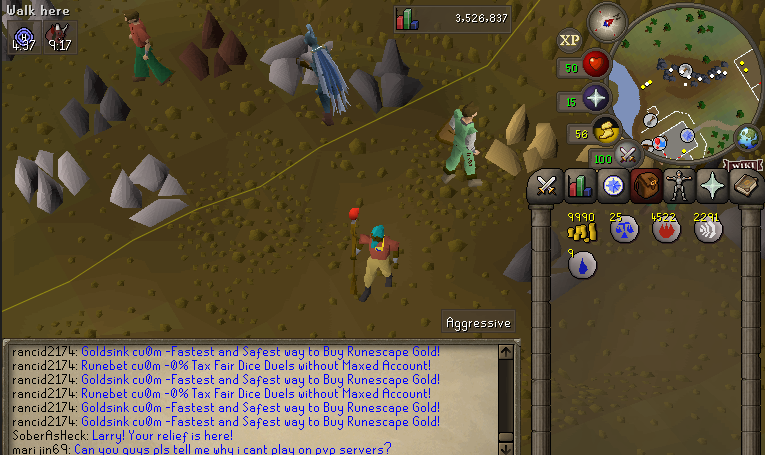depleted: (348, 34, 428, 118), (55, 59, 138, 139), (501, 220, 534, 287)
iron: (176, 7, 258, 82)
